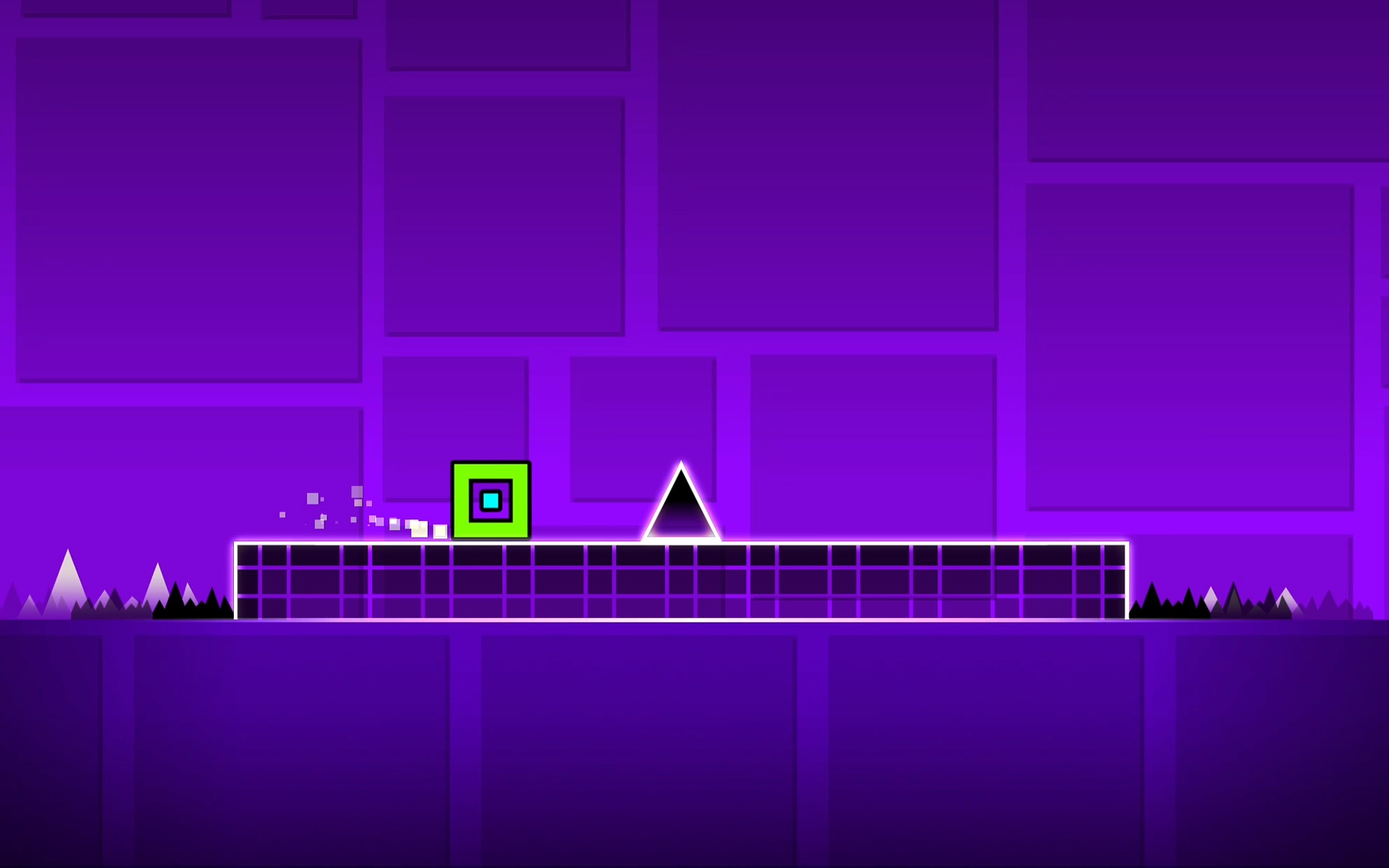Block2: (241, 539, 1129, 625)
Player: (450, 461, 532, 539)
Spike: (643, 463, 716, 538)
Spike3: (1127, 576, 1388, 620), (2, 577, 230, 618)
